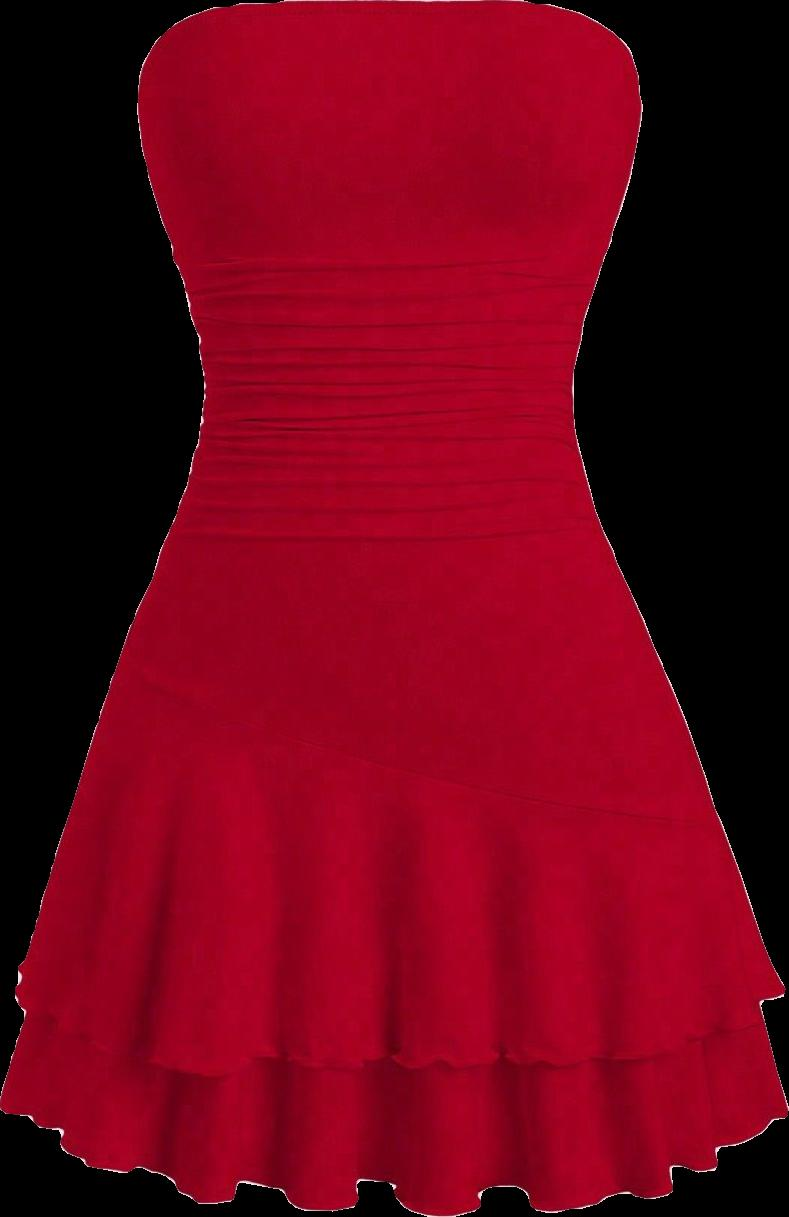Bodice: (120, 0, 723, 827)
Hemline: (0, 1097, 788, 1216), (14, 972, 784, 1077)
Neckline: (131, 0, 638, 84)
Skirt: (0, 660, 786, 1215)
Waistline: (117, 651, 727, 836)
